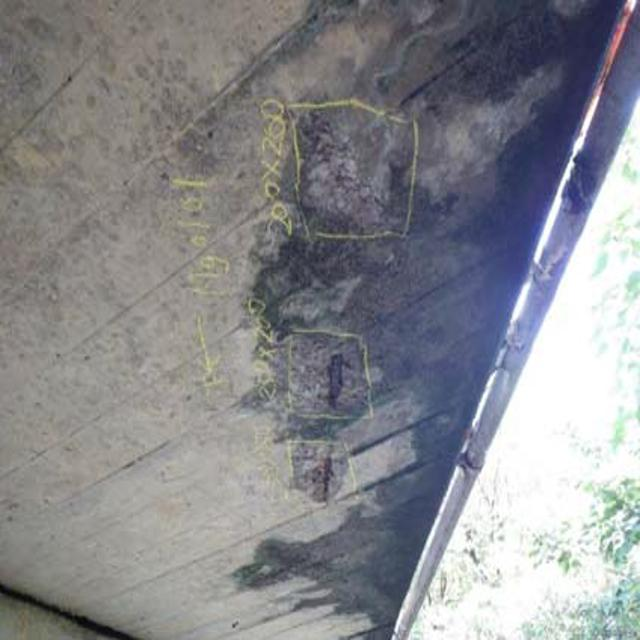spalling: (267, 318, 382, 522), (276, 89, 413, 234)
